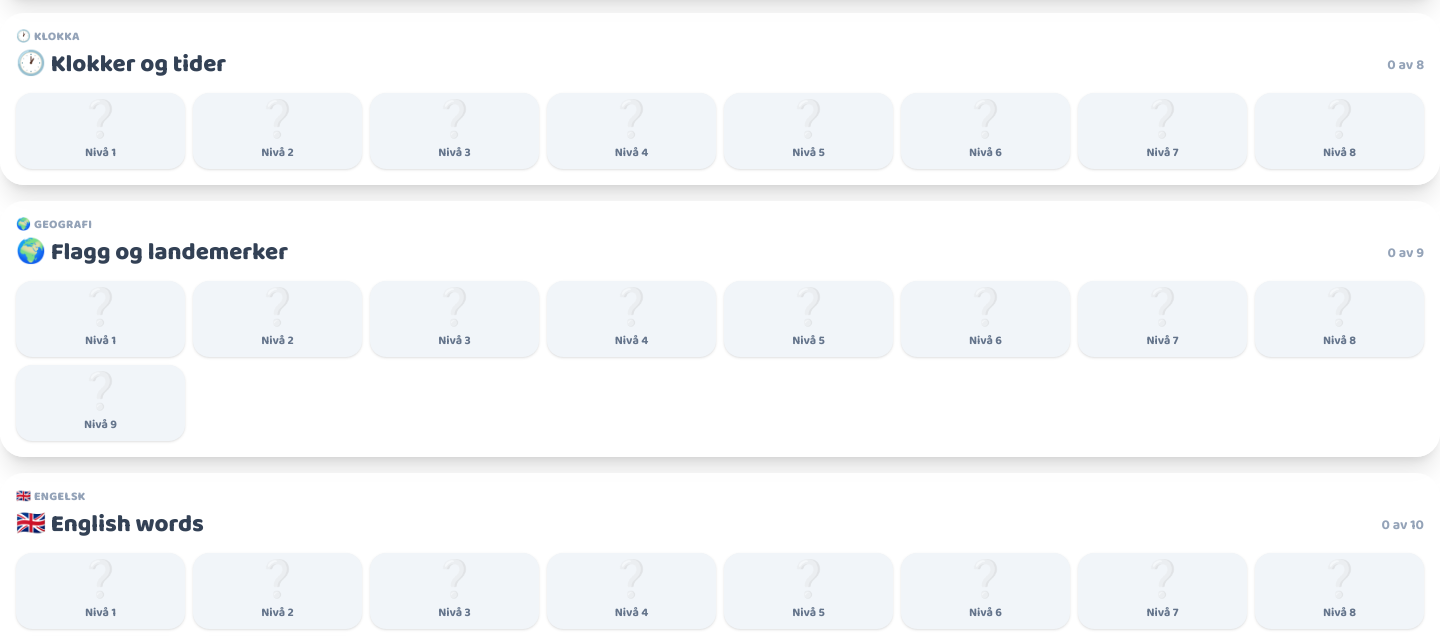
Test: samlingen › grått kort: vindu med fag og nivå, knapp som går dit; passert nivå sier spill om igjen
Later steps or results of the test are not shown.
(page scrolled)
Click the button with test id "kort-geo-3". click: (454, 319)
box: top-left (370, 281), bottom-right (539, 357)
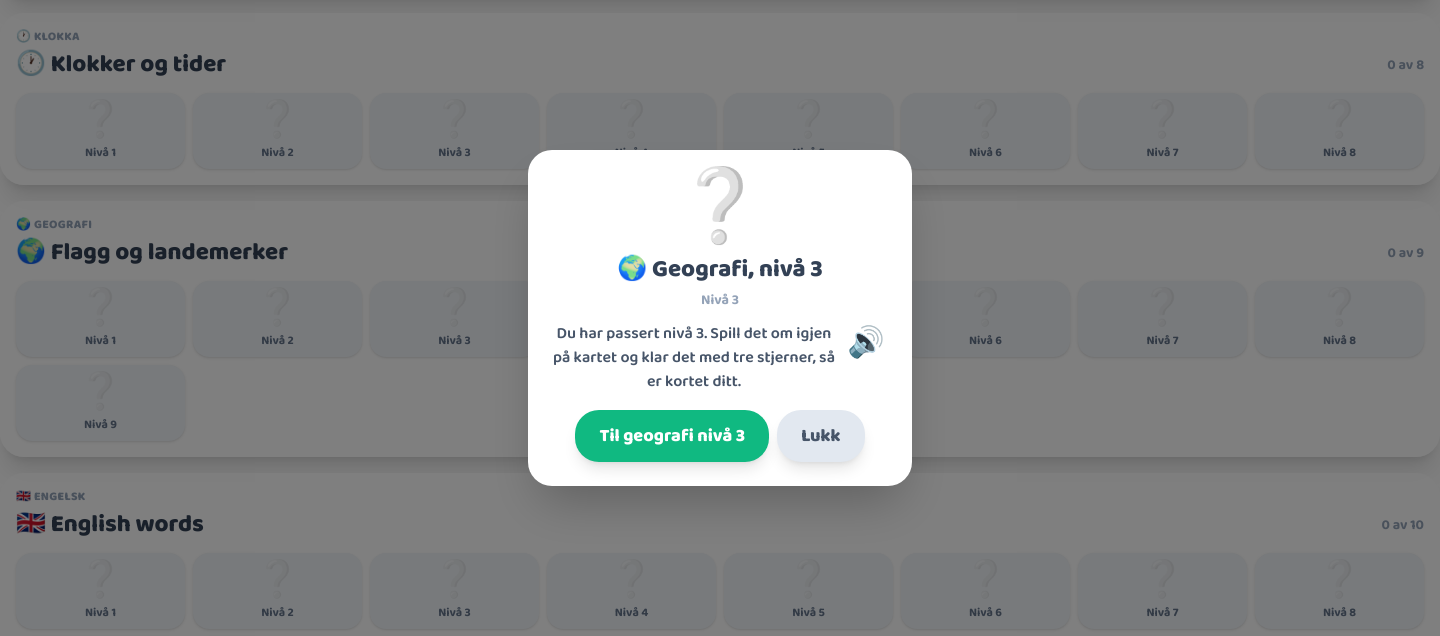
Expected: the element with test id "kort-vindu" shows "Geografi, nivå 3", top-left (528, 150), bottom-right (912, 486)
Expected: the element with test id "kort-vindu" shows "passert nivå 3", top-left (553, 321), bottom-right (835, 394)
Click the button "Til geografi nivå 3". click: (672, 436)
box: top-left (576, 410), bottom-right (769, 462)
Click the button "Lukk". click: (821, 436)
box: top-left (777, 410), bottom-right (864, 462)
(page scrolled)
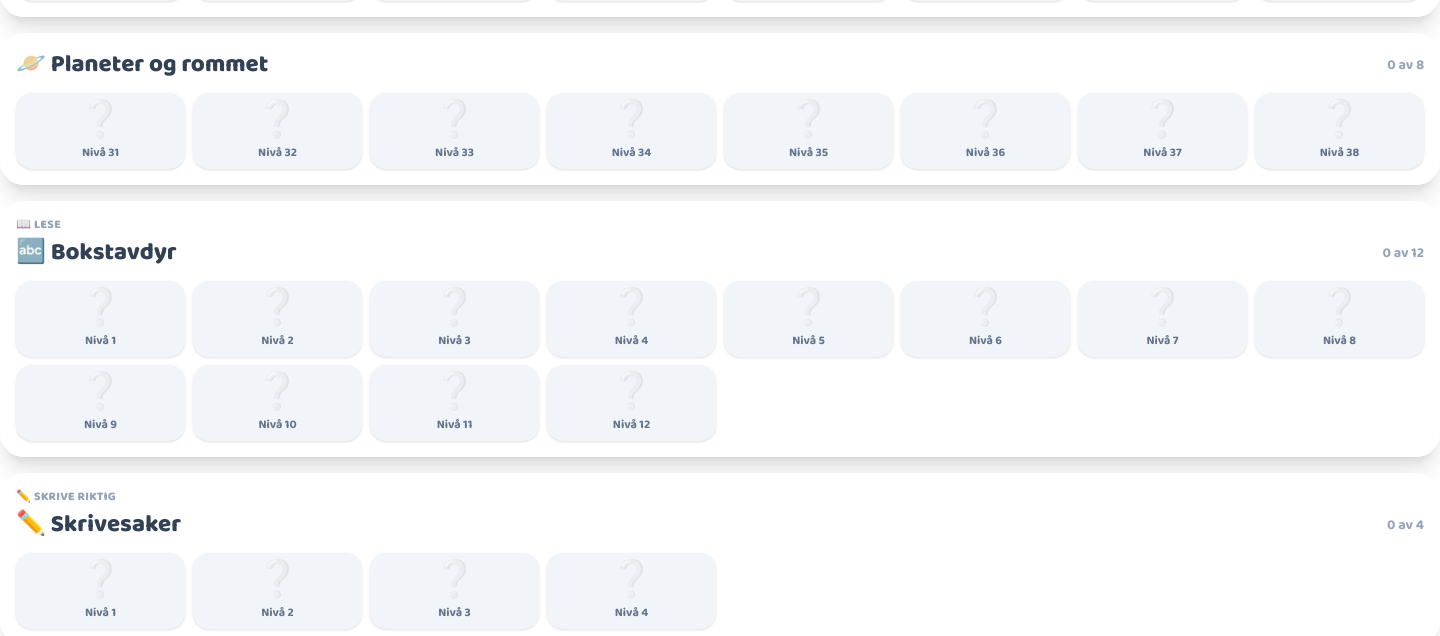
Click the button with test id "kort-lese-7". click: (1162, 319)
box: top-left (1078, 281), bottom-right (1247, 357)
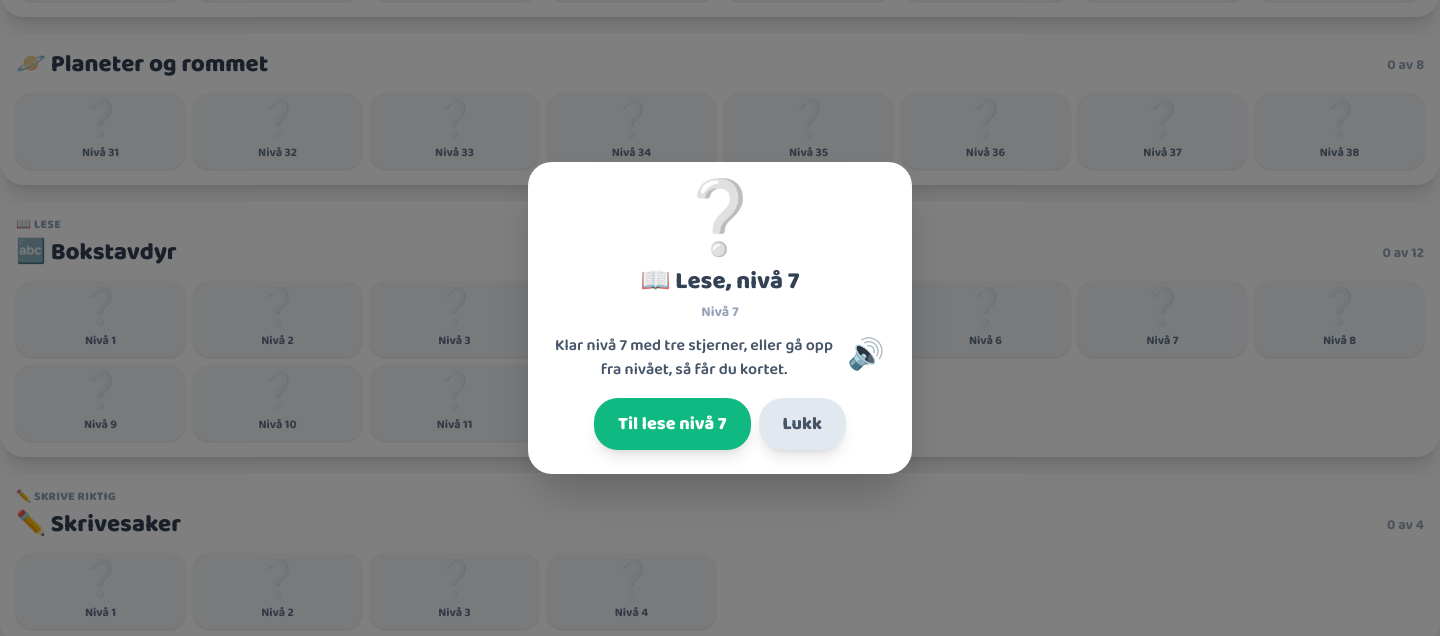
Expected: the element with test id "kort-vindu" shows "Lese, nivå 7", top-left (528, 162), bottom-right (912, 474)
Expected: the element with test id "kort-vindu" shows "tre stjerner", top-left (555, 333), bottom-right (833, 382)
